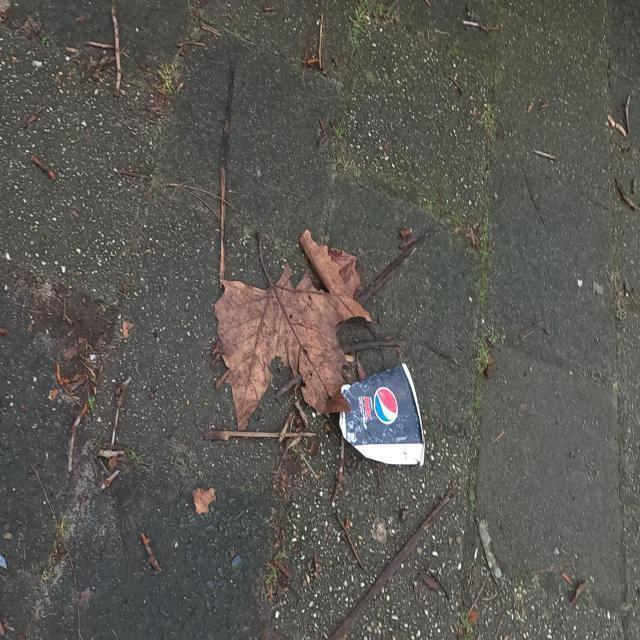Cup: (338, 362, 426, 469)
